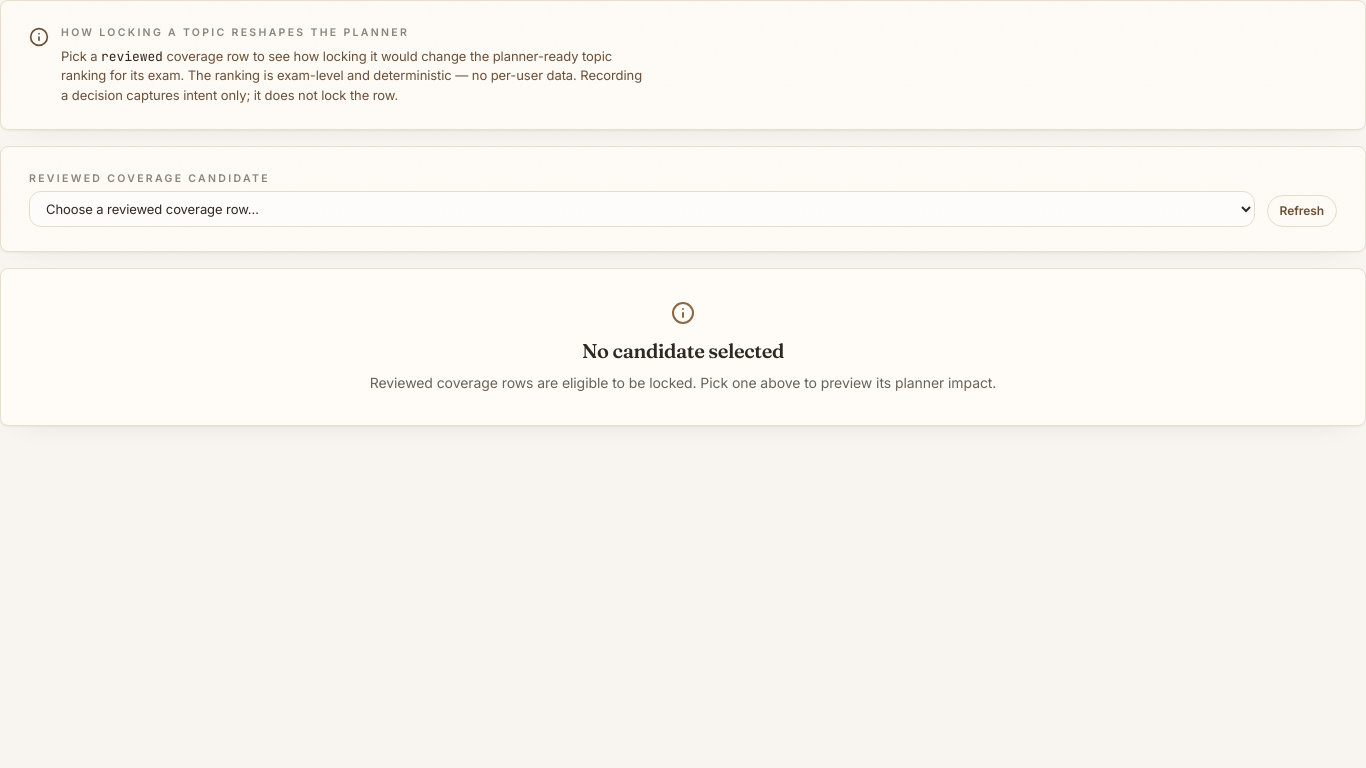
Test case: save never renders 'coverage row locked' copy
Select "SSC CGL · Percentage" in the dropdown at {"x": 642, "y": 209}, box [29,191,1255,227]
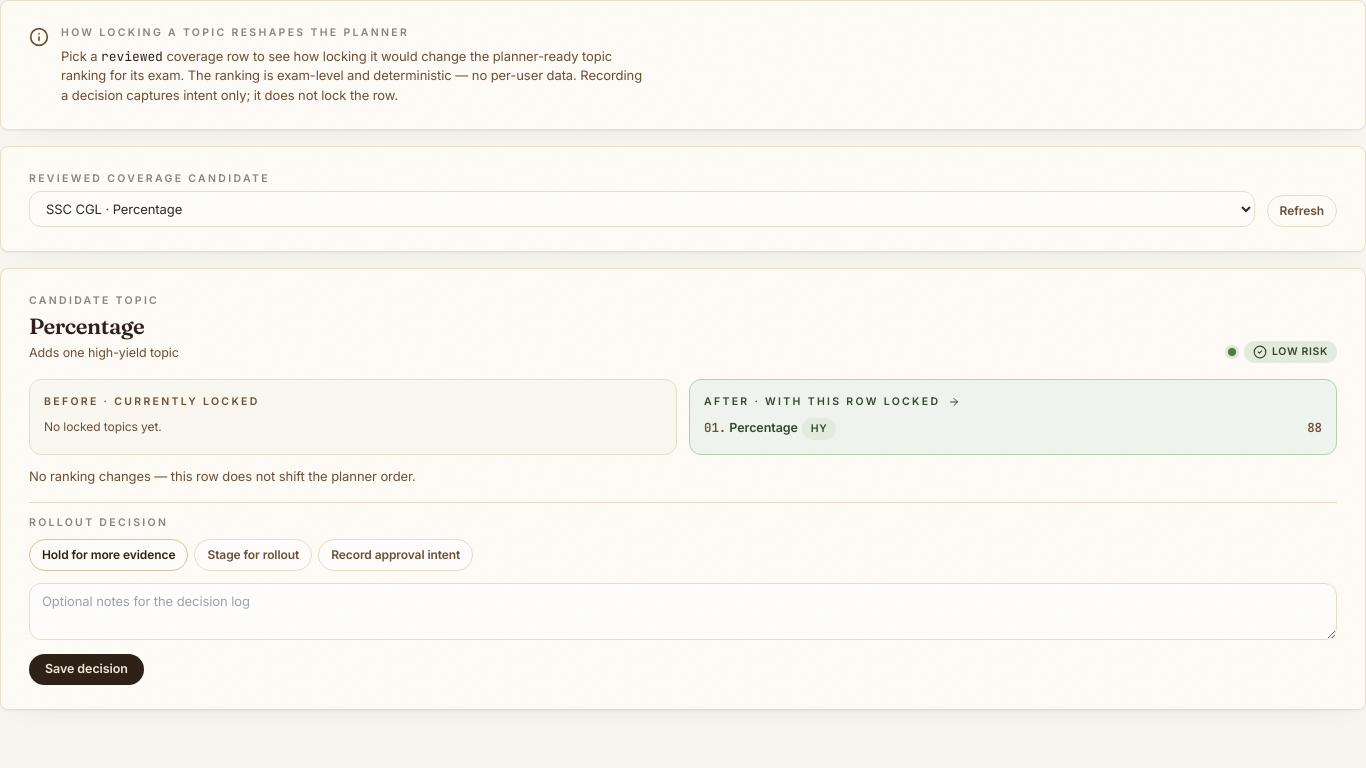
Check: the button with test id "plan-impact-save-decision" is shown
Click the button with test id "plan-impact-save-decision" at {"x": 86, "y": 669}, box [29,654,144,685]
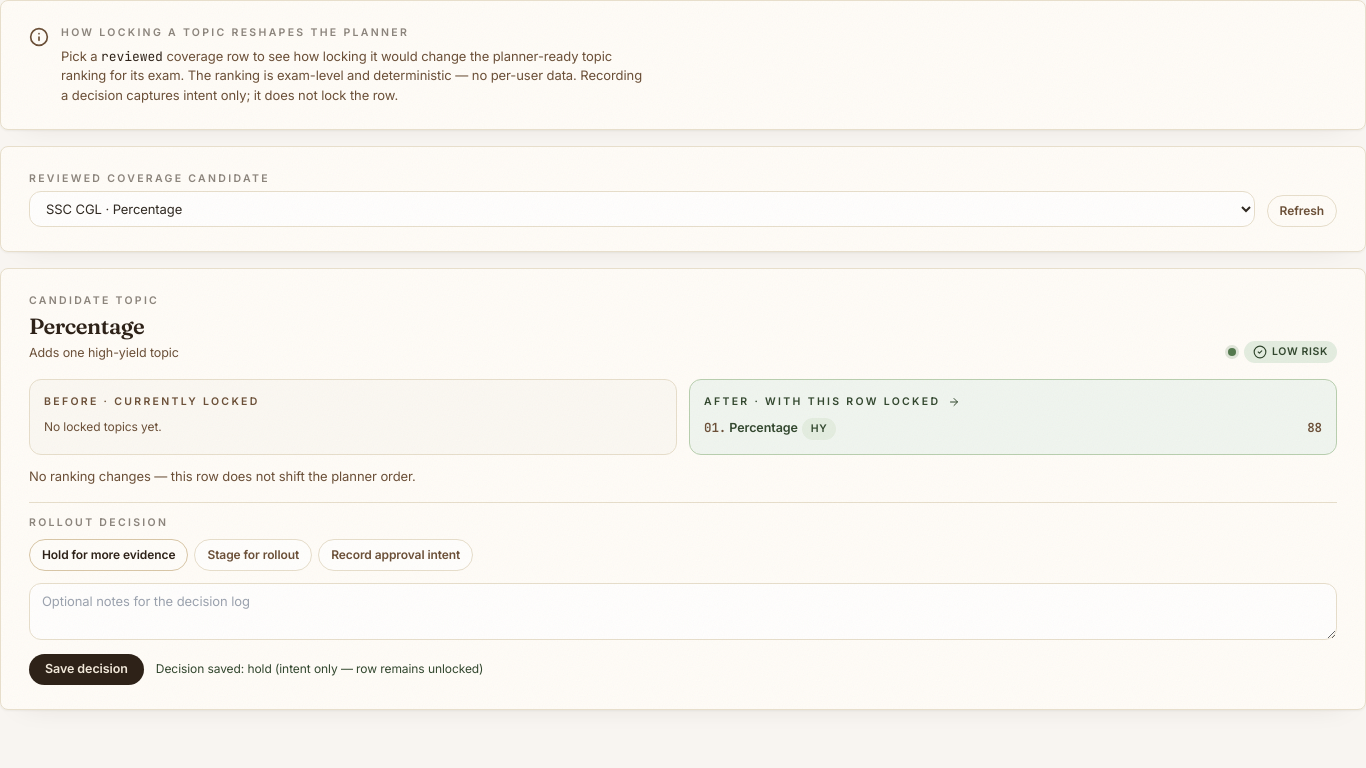
Check: the text "Decision saved: hold (intent only — row remains unlocked)" is shown, box [156,660,483,678]
